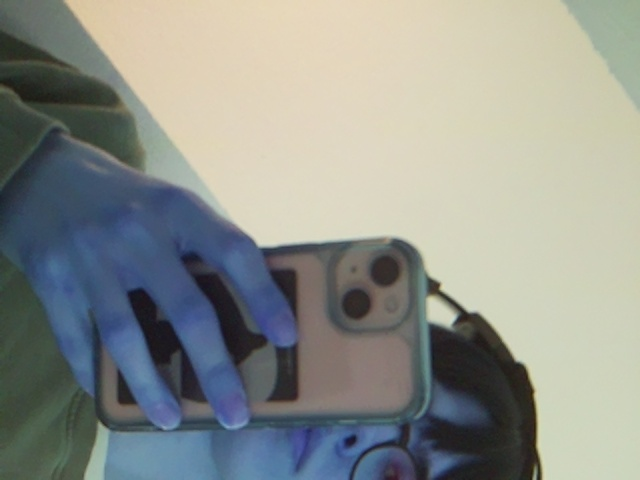cell phone: (85, 248, 432, 424)
